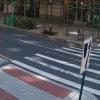Crosswalk: (13, 44, 100, 85)
